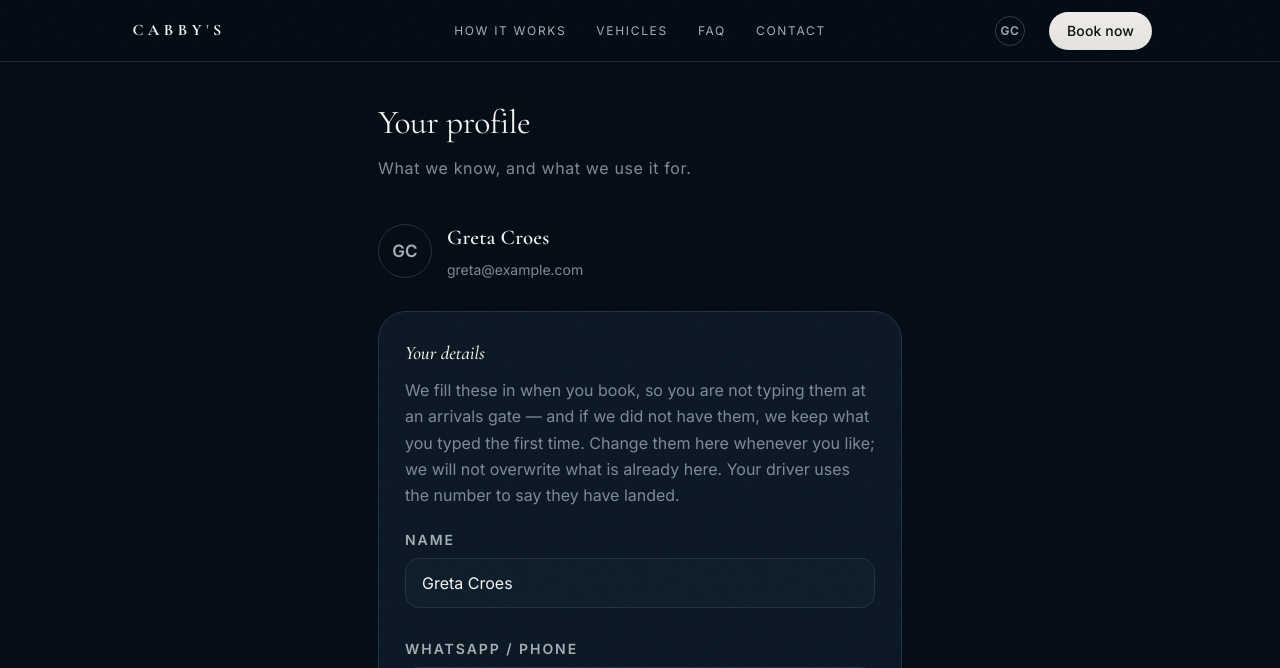
it: Profile › keeps Save inert until something actually changed
The width and height of the screenshot is (1280, 668).
Step 1. Replace the text in the field labelled "Name" with "Greta C" → (640, 583), box x1=405 y1=558 x2=875 y2=608
(page scrolled)
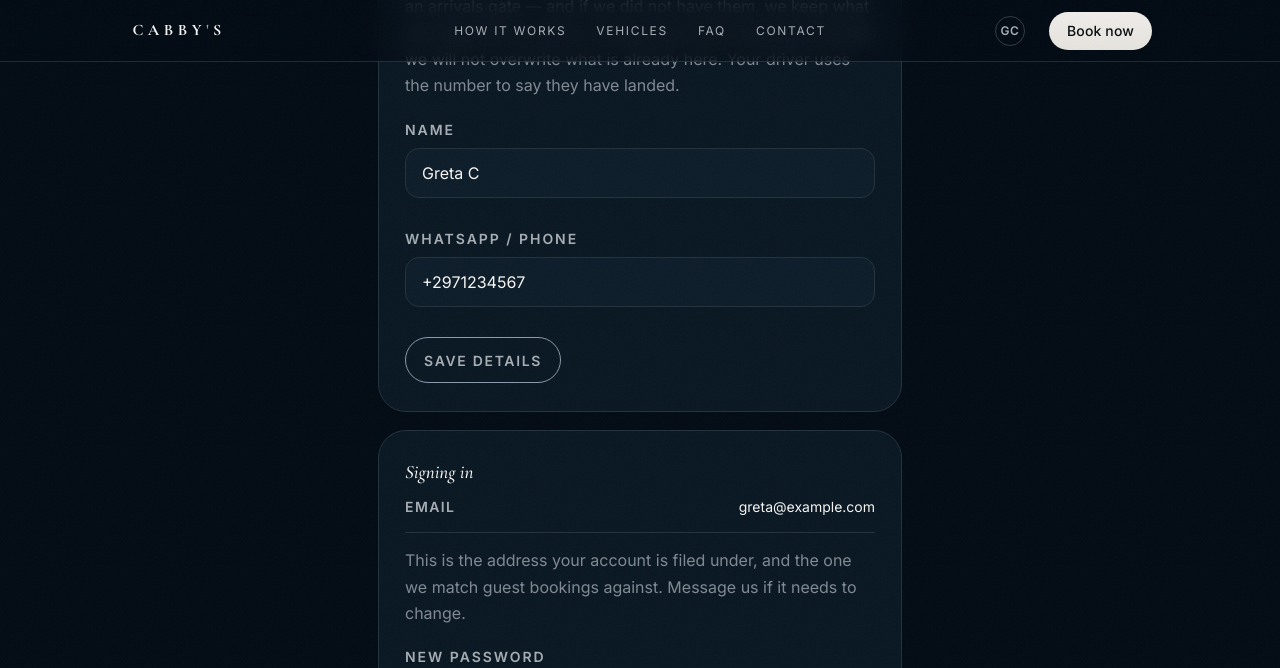
Expected: the button "Save details" is enabled, x1=405 y1=338 x2=561 y2=384
